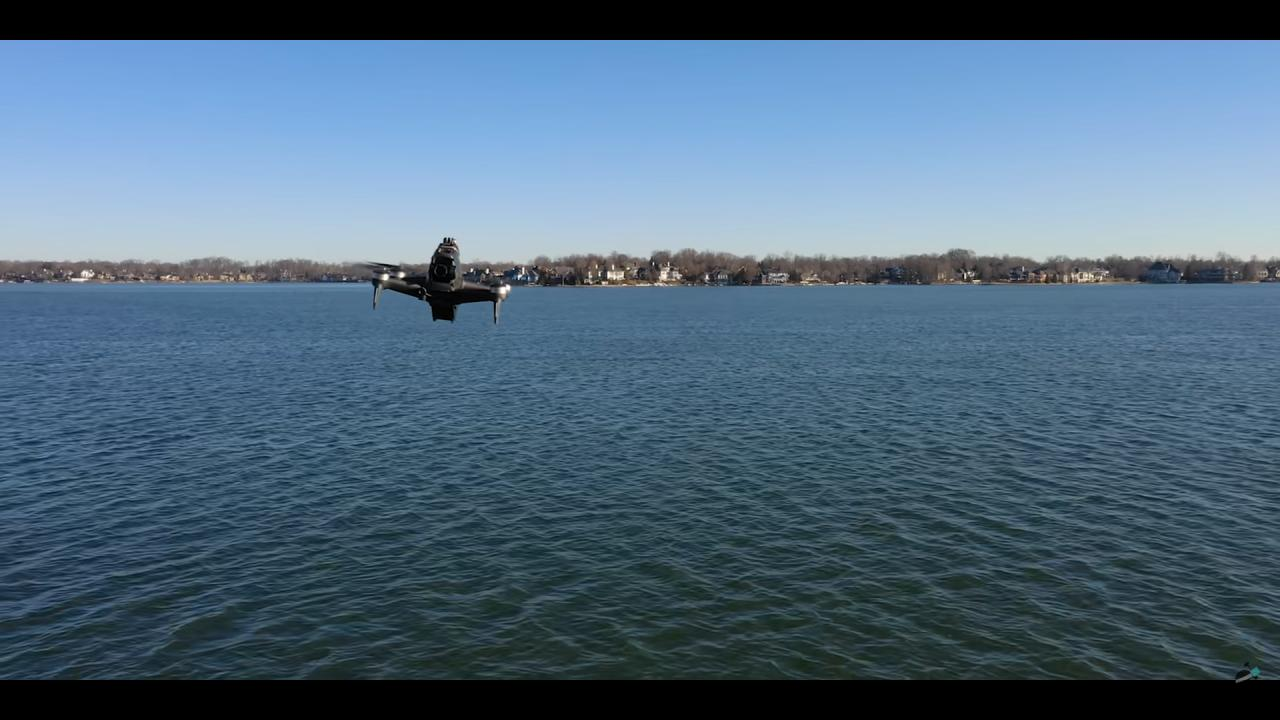Drone: (345, 233, 532, 336)
